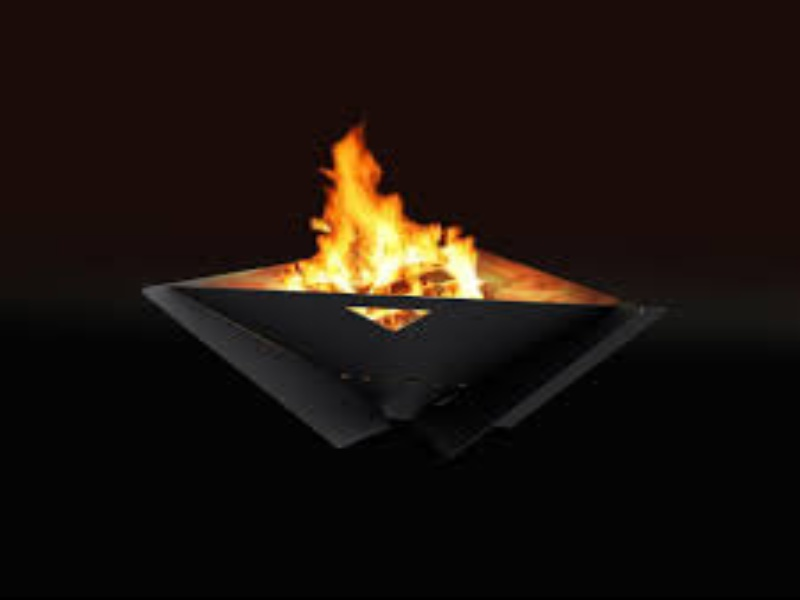fire: (287, 121, 493, 296)
